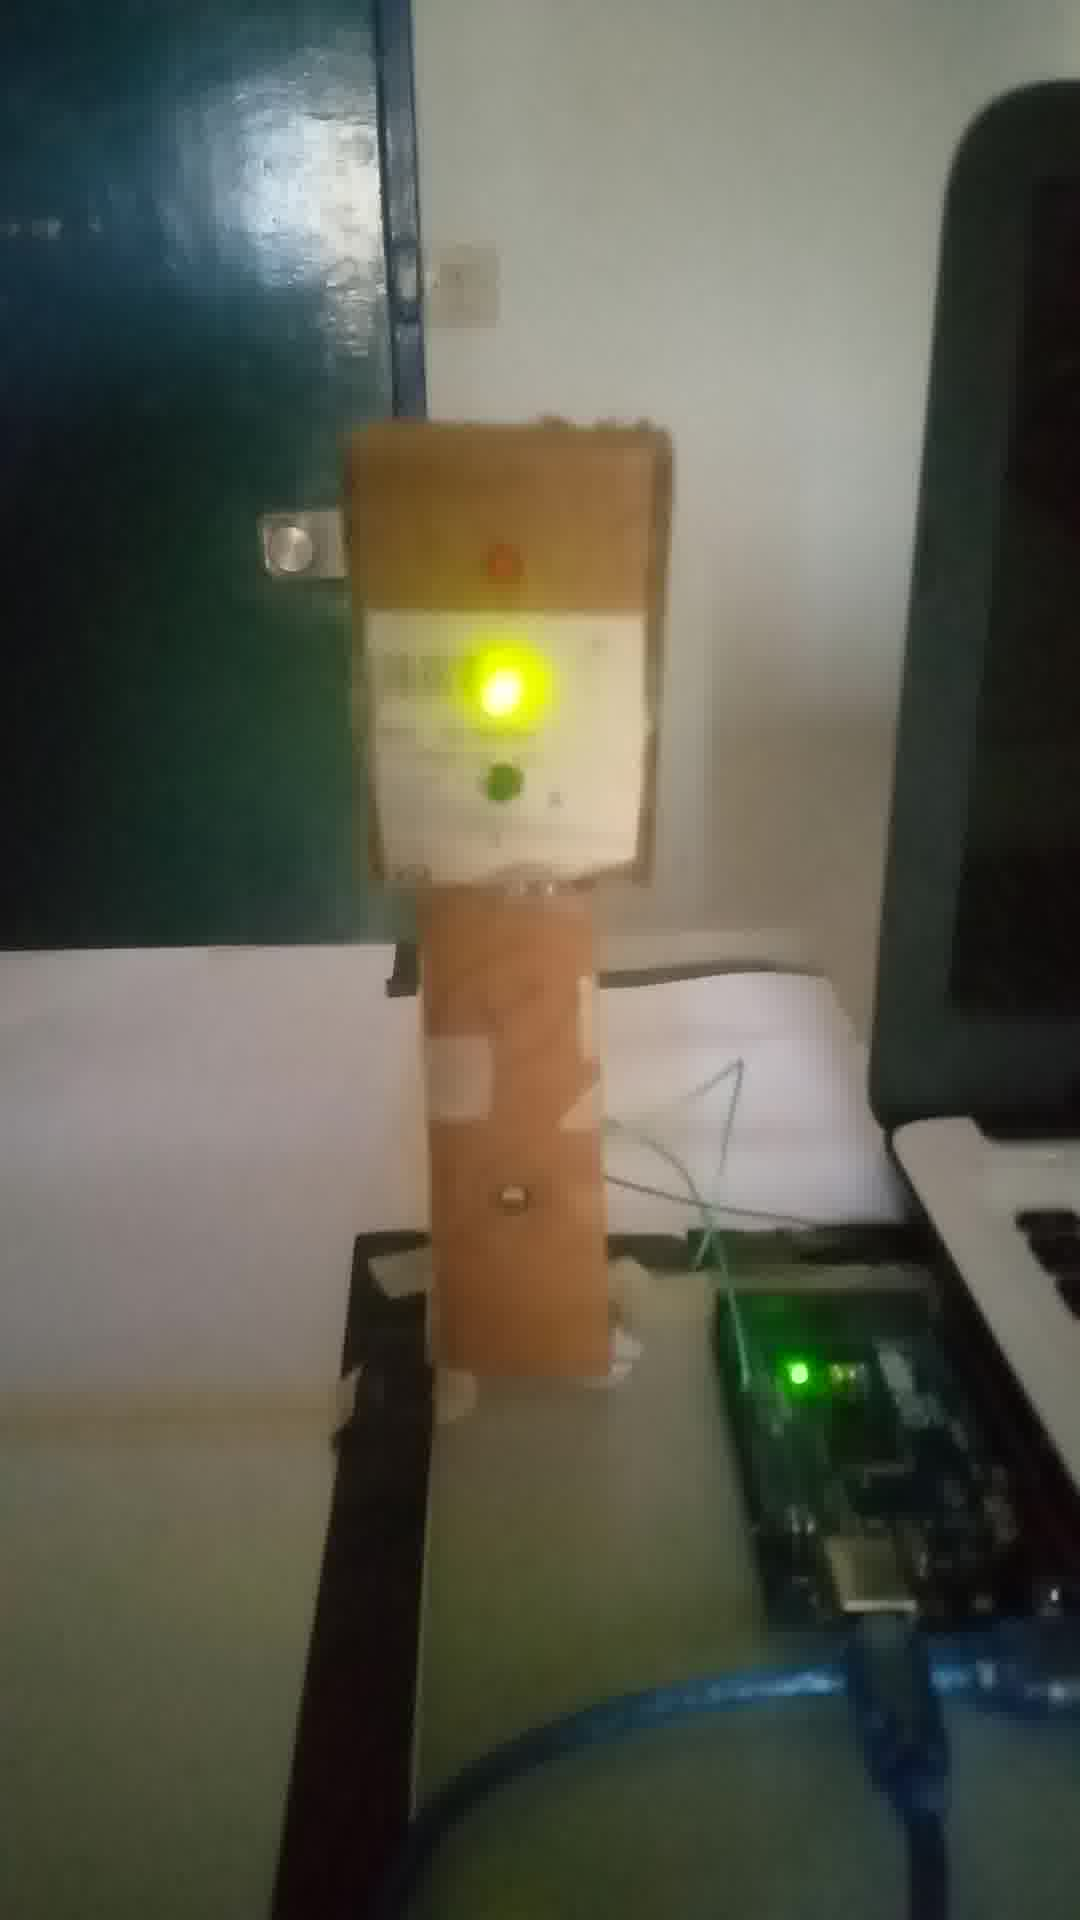yellow: (347, 431, 661, 866)
